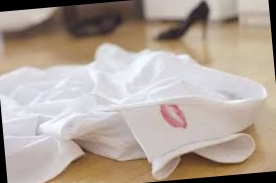lipstick: (155, 99, 191, 133)
